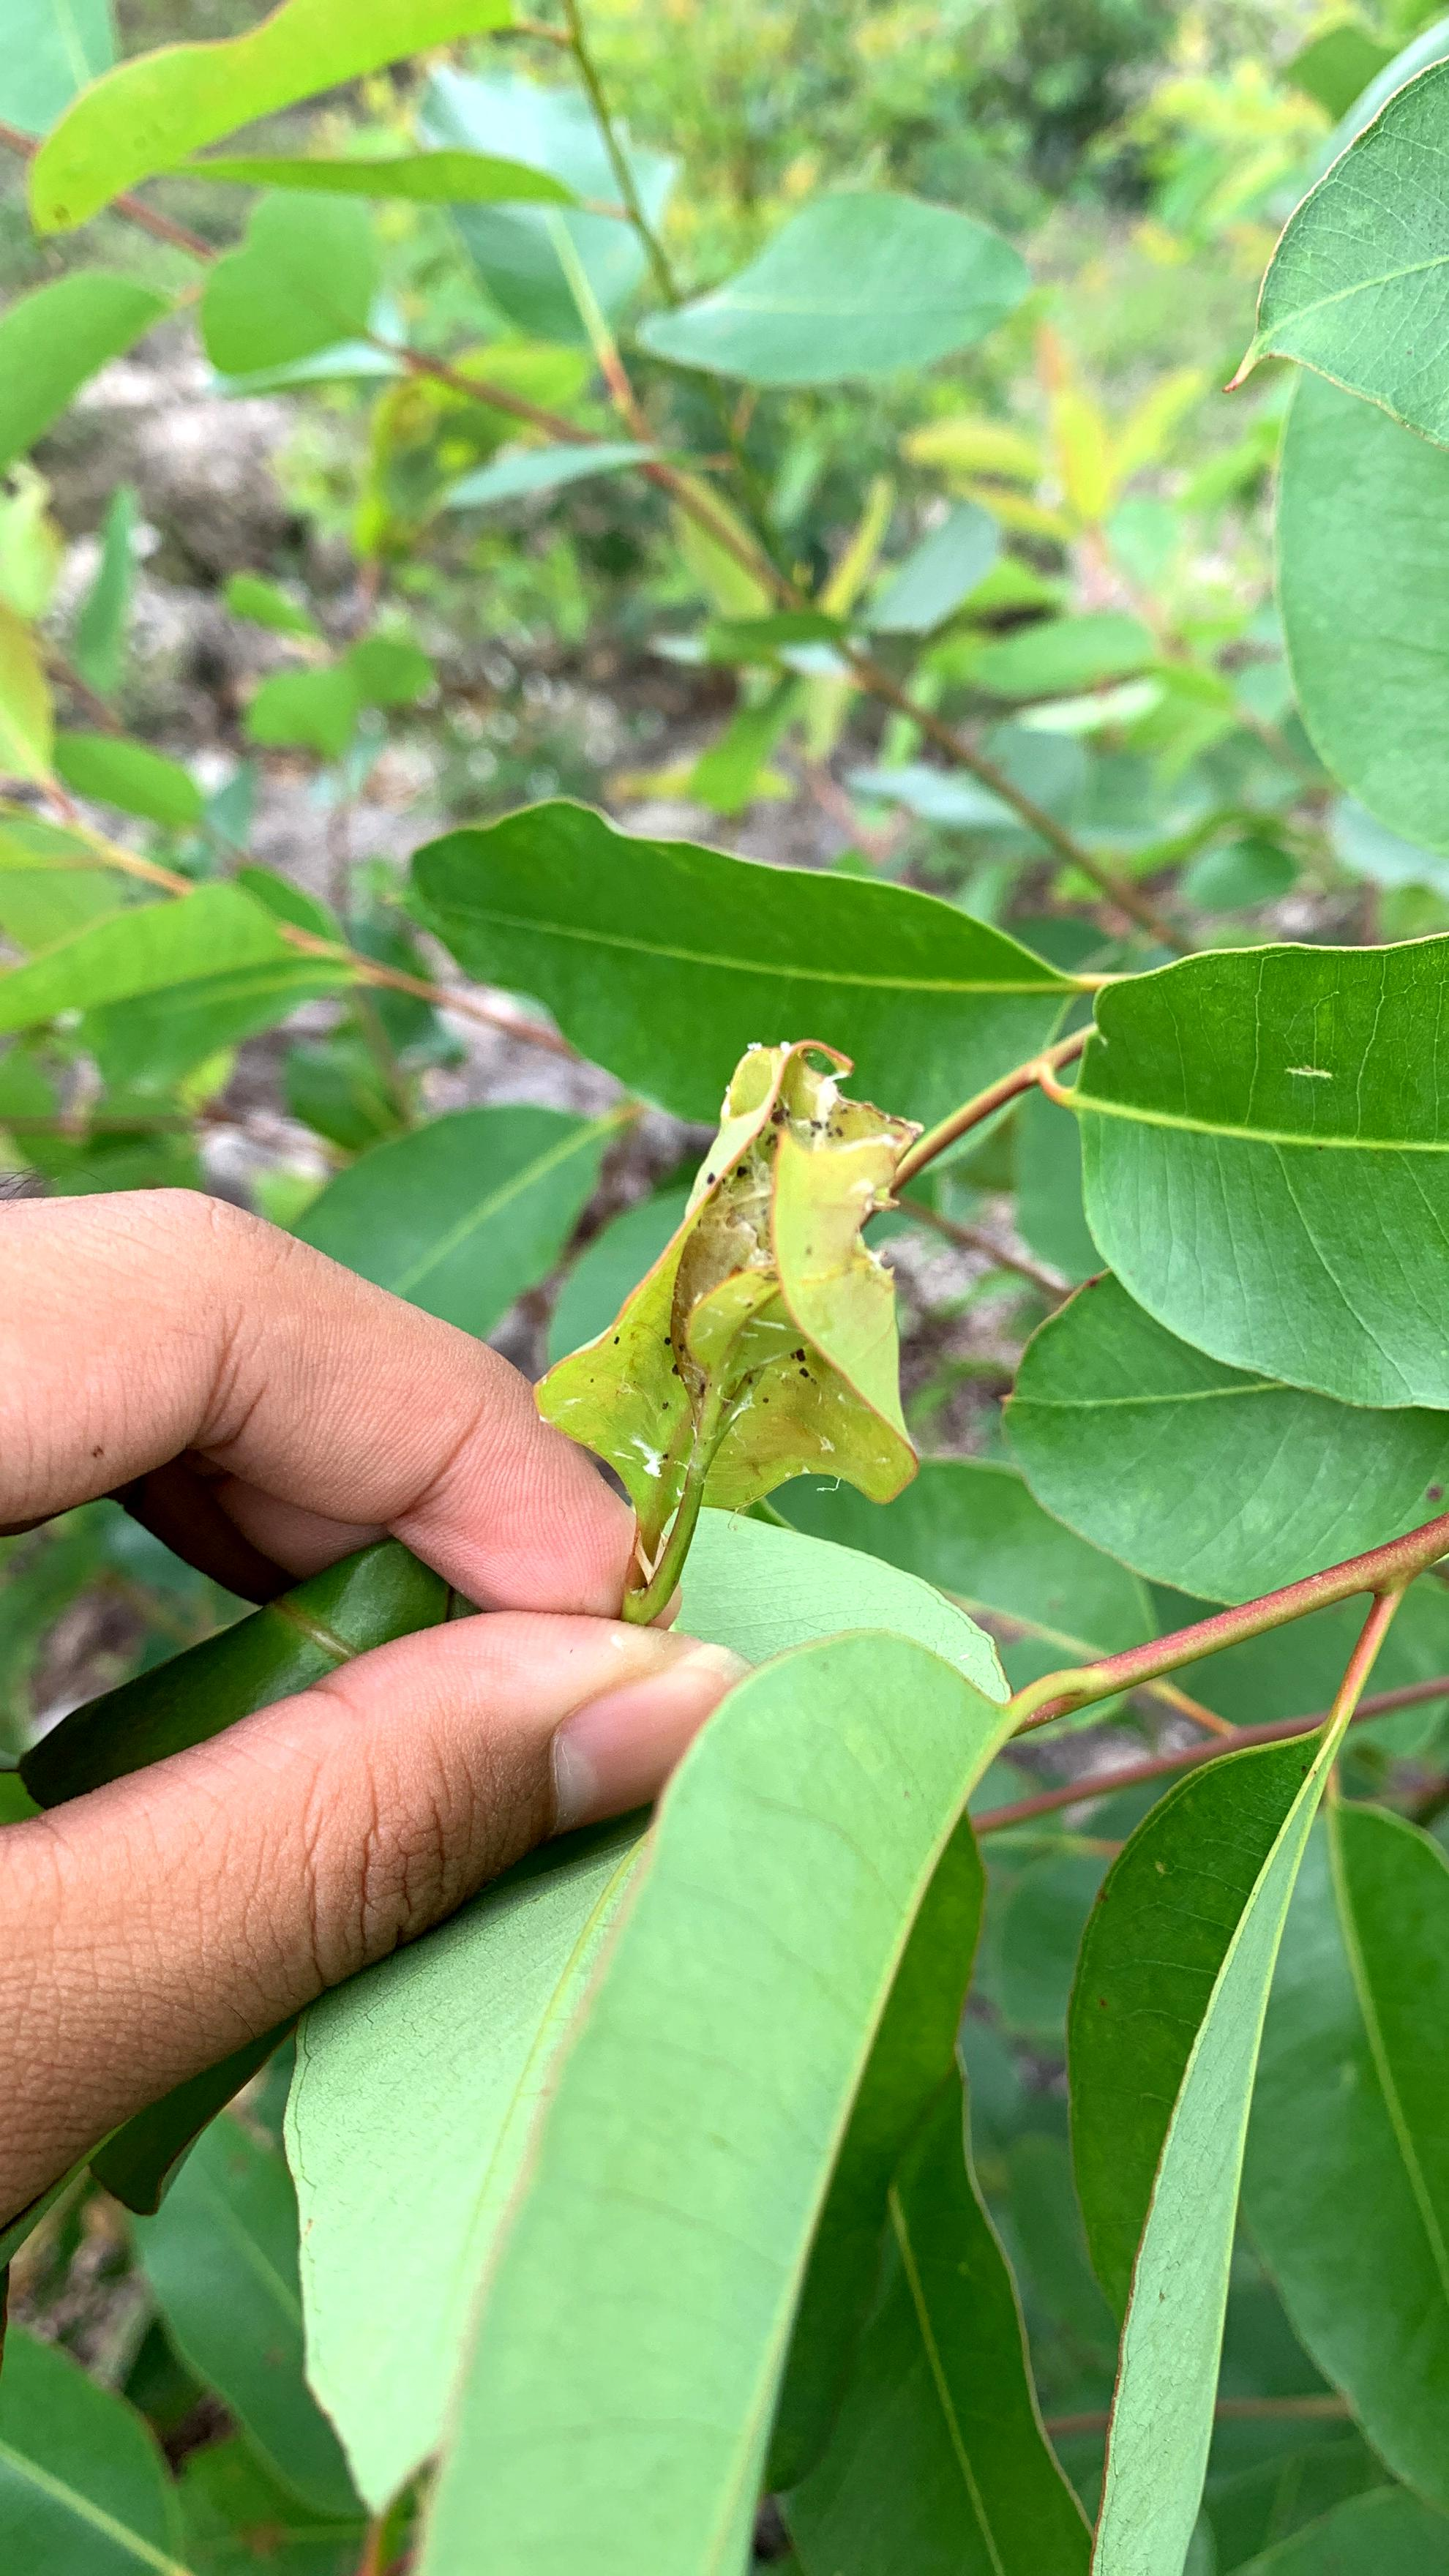Leaf Roller - Leaf: (542, 1022, 937, 1551)
